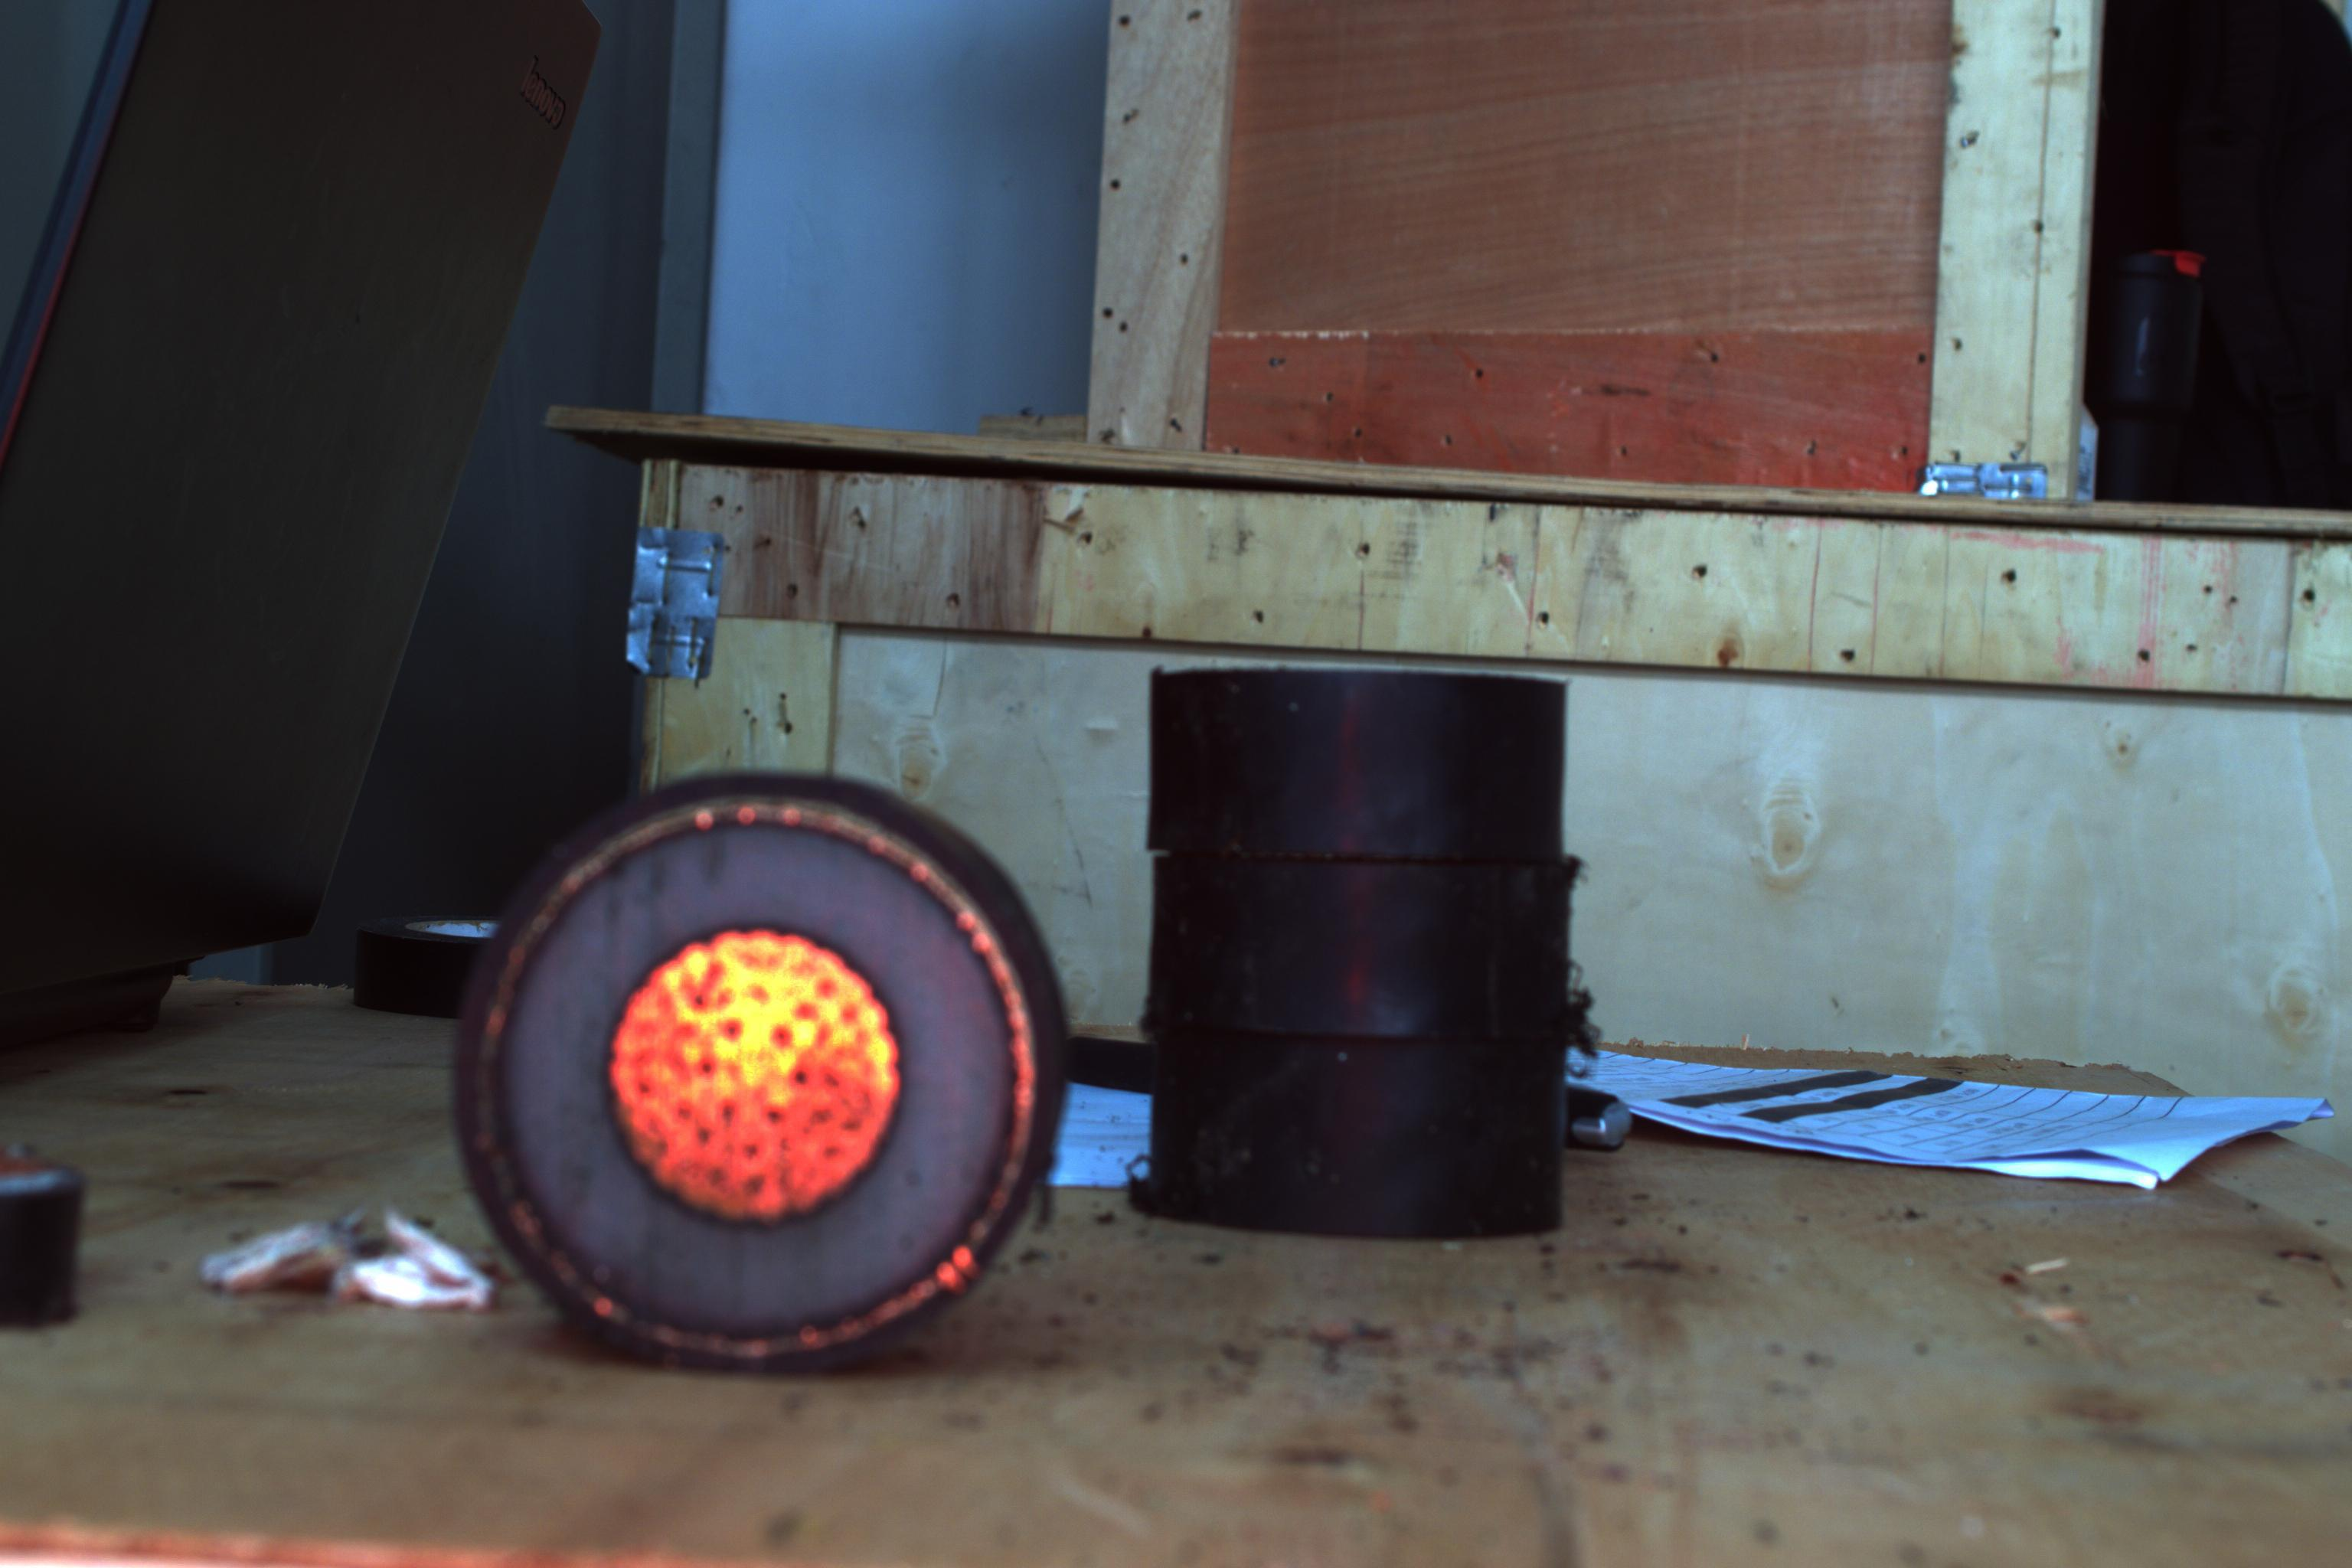YJV_26_35kV_1x630: (467, 777, 1031, 1360)
